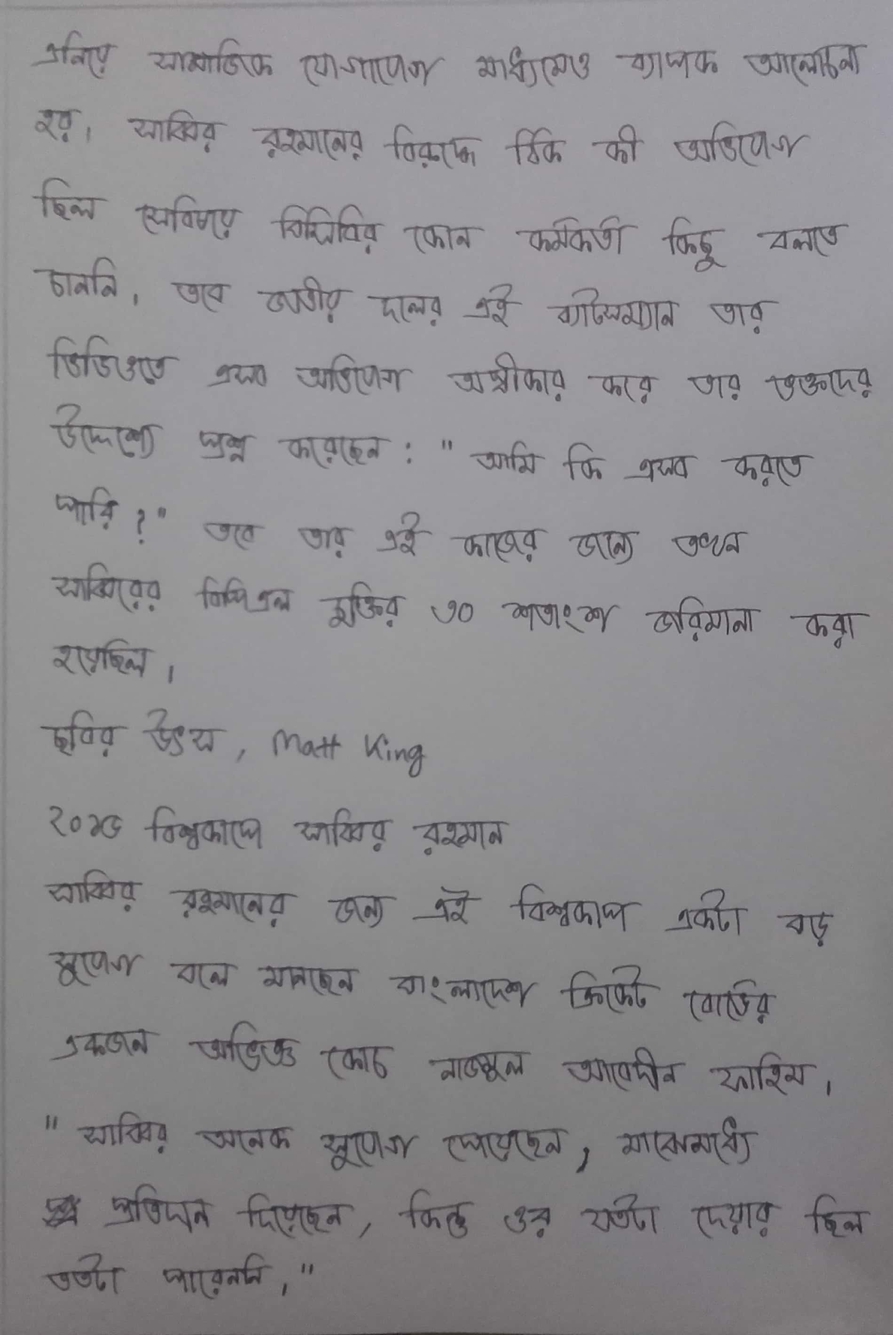line: (31, 177, 851, 275), (48, 561, 872, 652), (45, 1017, 839, 1104), (43, 867, 839, 950), (42, 402, 818, 487), (45, 333, 878, 410), (36, 253, 781, 336), (51, 483, 757, 567), (39, 946, 781, 1024), (28, 29, 874, 93), (32, 105, 813, 174), (40, 1182, 875, 1243), (45, 1108, 760, 1175), (43, 798, 513, 864), (35, 711, 434, 781), (39, 1251, 315, 1301), (39, 637, 186, 684)
